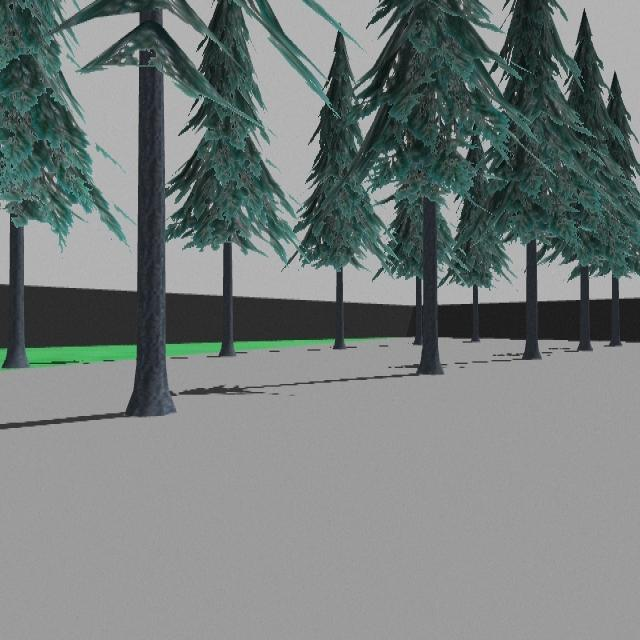tree: (64, 0, 213, 417), (347, 0, 512, 376)
